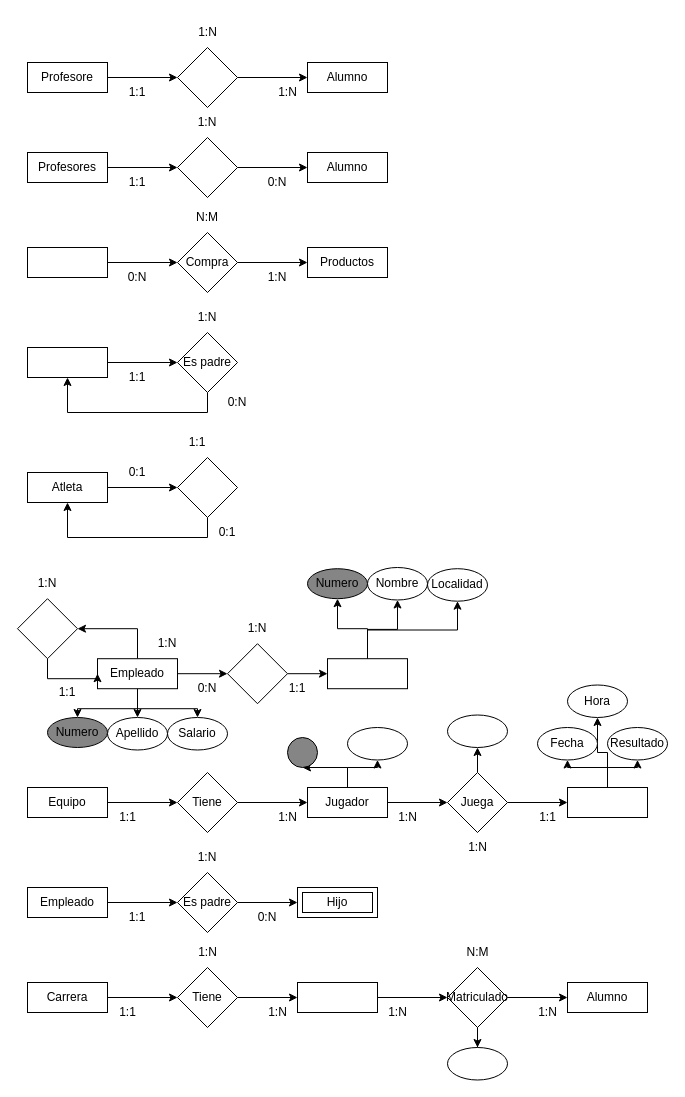
This 685x1097 diagram has some shape labels left out. The shapes that lost their labels are listed below. From the top down, each one's box as (x1, y1, x2, y2) in pixels, then its label:
(176, 46, 238, 108): Da clases
(176, 136, 238, 198): Es Tutor
(26, 246, 108, 278): Cliente
(26, 346, 108, 378): Persona
(176, 456, 238, 518): Da relevo
(16, 598, 78, 659): Es Jefe
(226, 643, 288, 704): Esta asignado
(326, 658, 408, 689): Departamento
(346, 726, 408, 760): Datos Personales
(446, 714, 508, 748): Posicion
(286, 736, 318, 768): ID
(566, 786, 648, 818): Partido
(296, 982, 378, 1012): Asignatura
(446, 1046, 508, 1080): Nota
